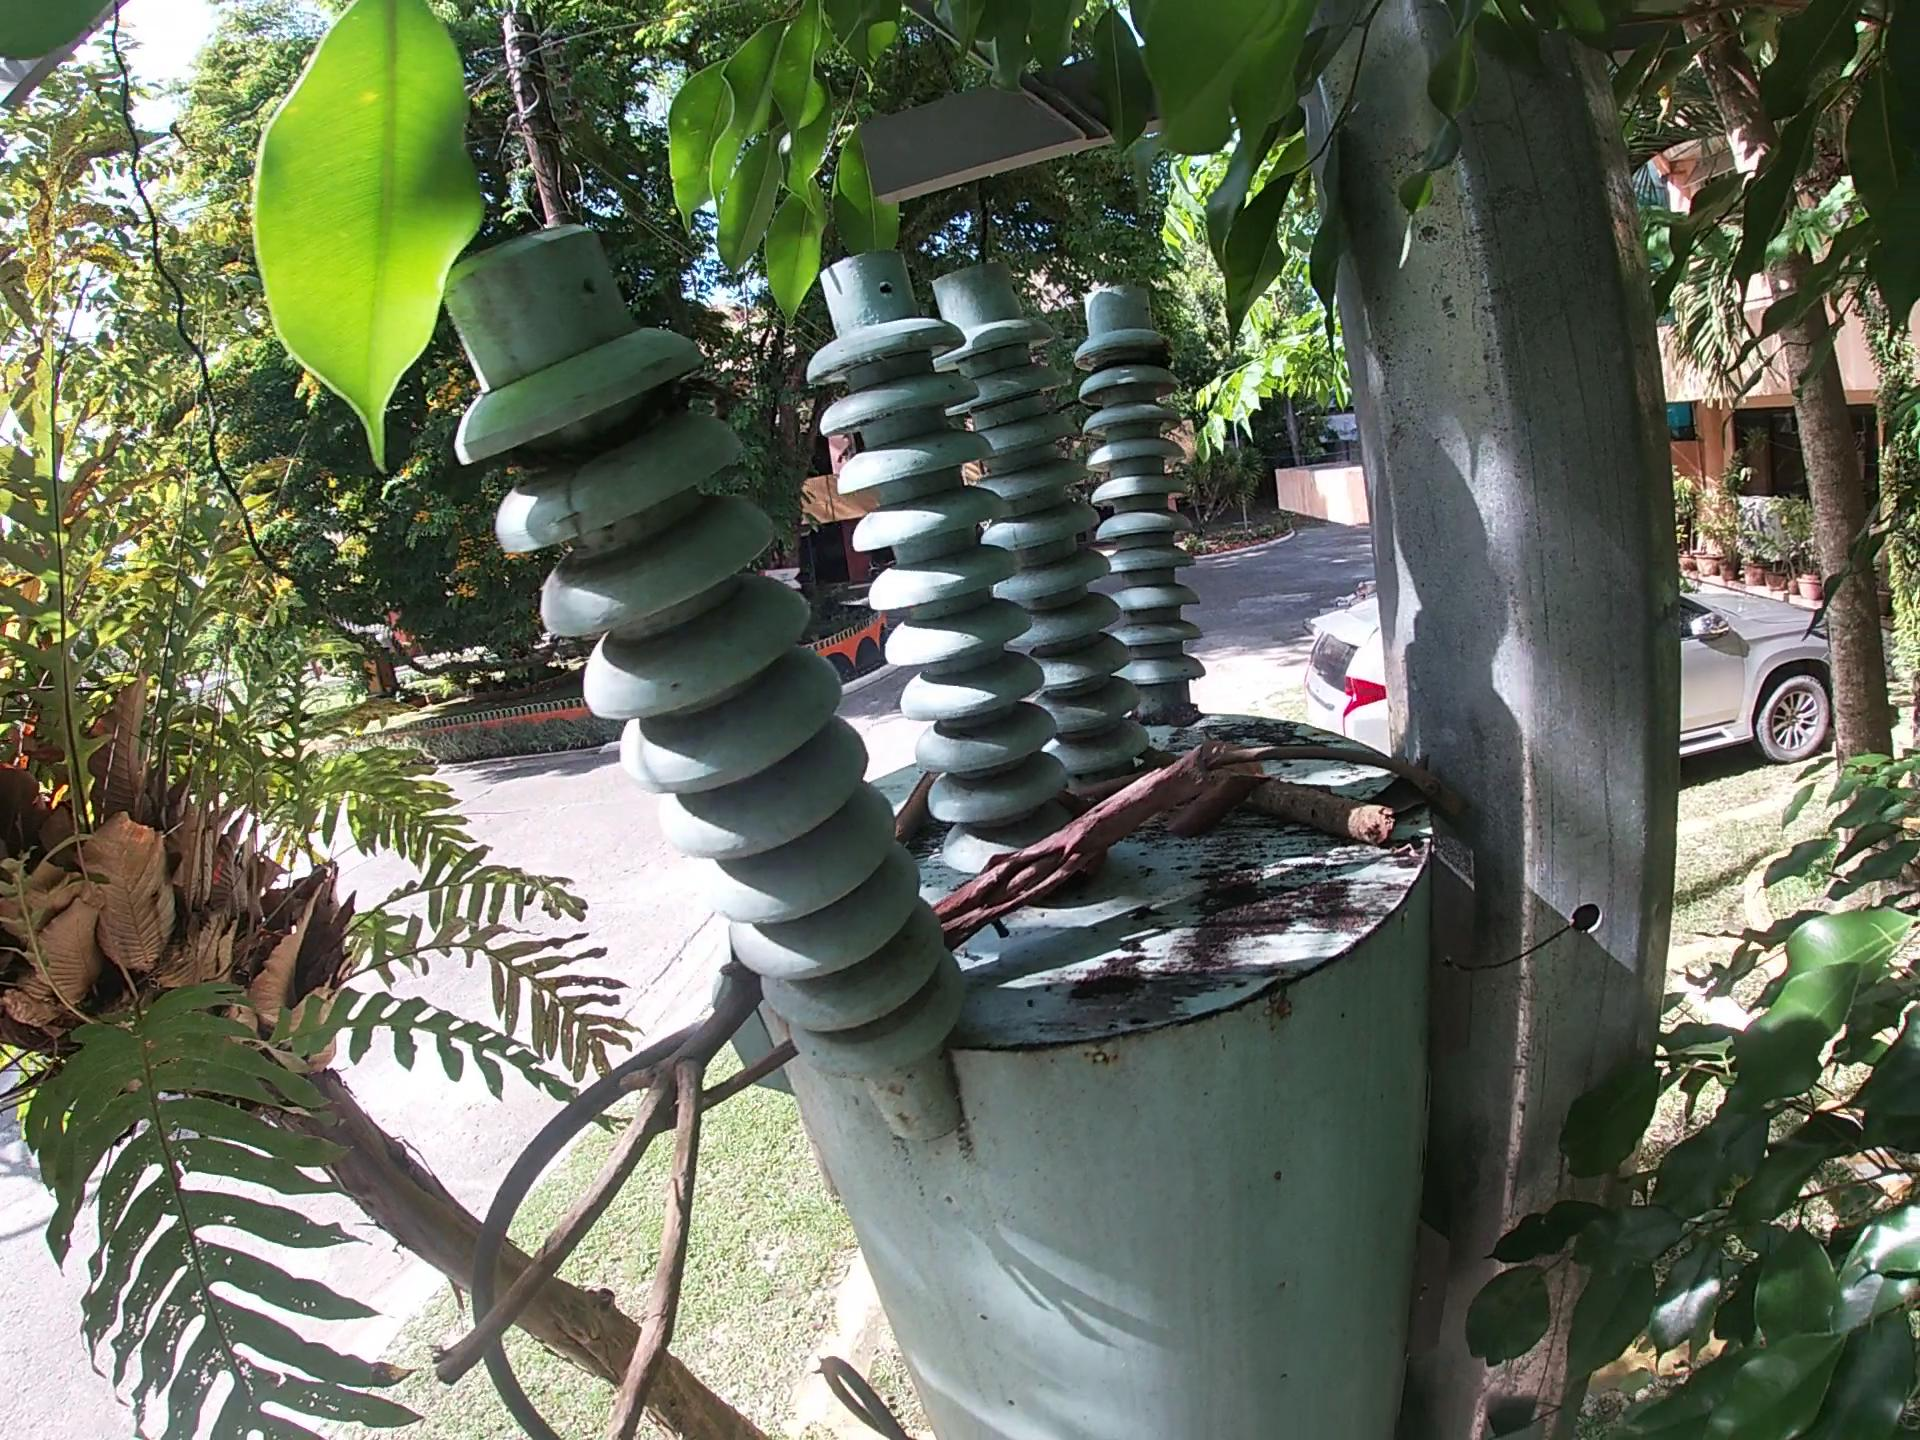leaf: (1164, 768, 1277, 846), (1364, 753, 1438, 823)
tree branch: (417, 942, 783, 1438), (918, 743, 1229, 950), (1078, 734, 1476, 824), (1140, 743, 1397, 844), (649, 1038, 806, 1130), (890, 764, 937, 862)
